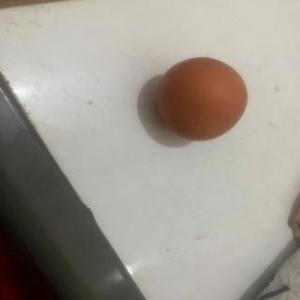egg: (154, 56, 250, 142)
